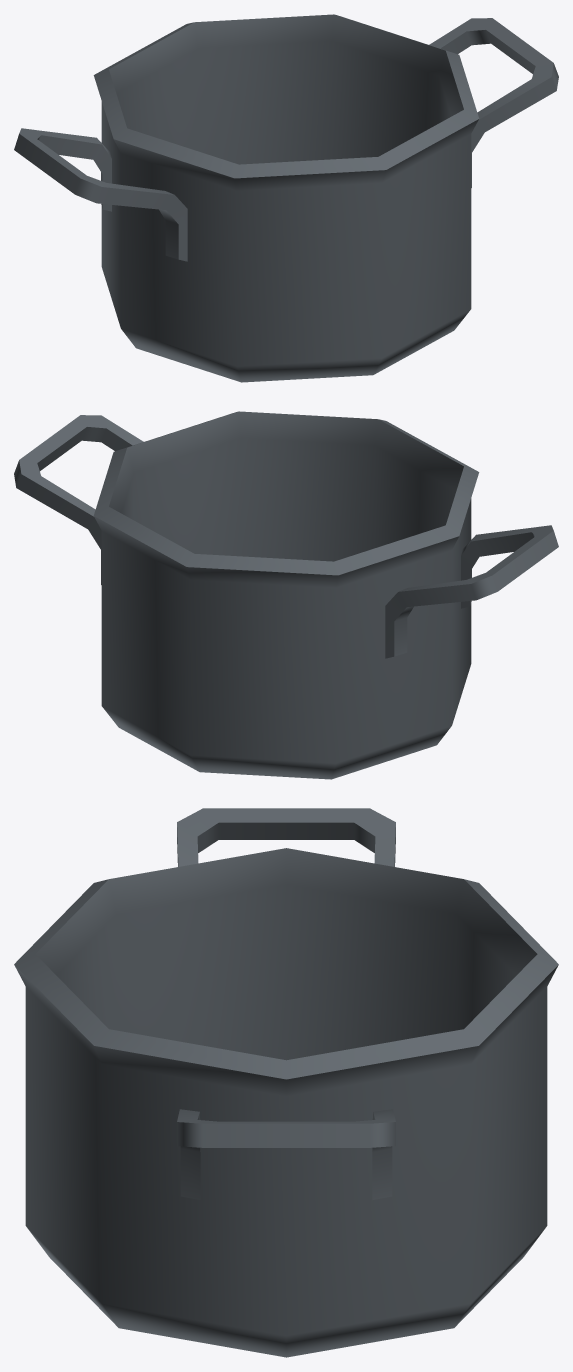
Rendered from SM_Prop_PanPot_01.obj.
The picture shows the model from 3 angles, top to bottom: view 1: azimuth 30°, elevation 25°; view 2: azimuth 150°, elevation 25°; view 3: azimuth 270°, elevation 25°; orthographic projection. The views are drawn at different scales.
Visible parts, largest first — view 1: SM_Prop_PanPot_01_M_PolygonOffice_01_A; view 2: SM_Prop_PanPot_01_M_PolygonOffice_01_A; view 3: SM_Prop_PanPot_01_M_PolygonOffice_01_A.
Part boxes in pixels (x1,y1,x2,y2): SM_Prop_PanPot_01_M_PolygonOffice_01_A: [14, 14, 558, 382]; SM_Prop_PanPot_01_M_PolygonOffice_01_A: [14, 411, 558, 779]; SM_Prop_PanPot_01_M_PolygonOffice_01_A: [14, 808, 558, 1357].
Size of the model in its own units: 0.6112 by 0.2682 by 0.4369.
Materials: 1 (1 with a texture image).
